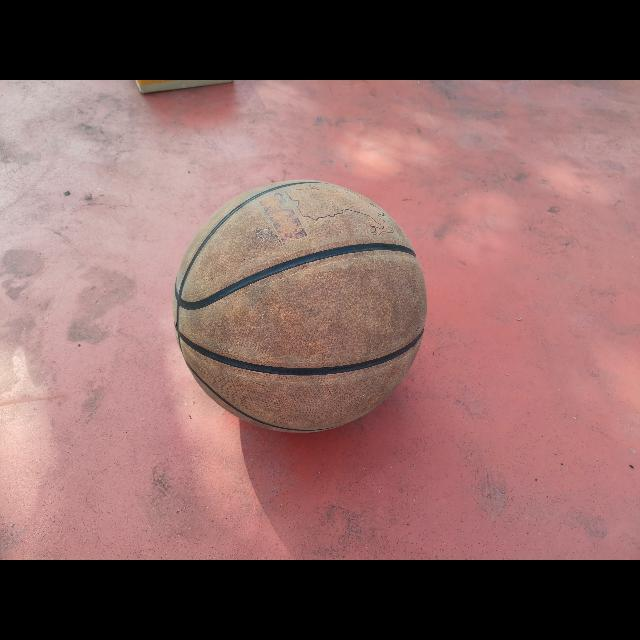basketball: (174, 180, 428, 434)
